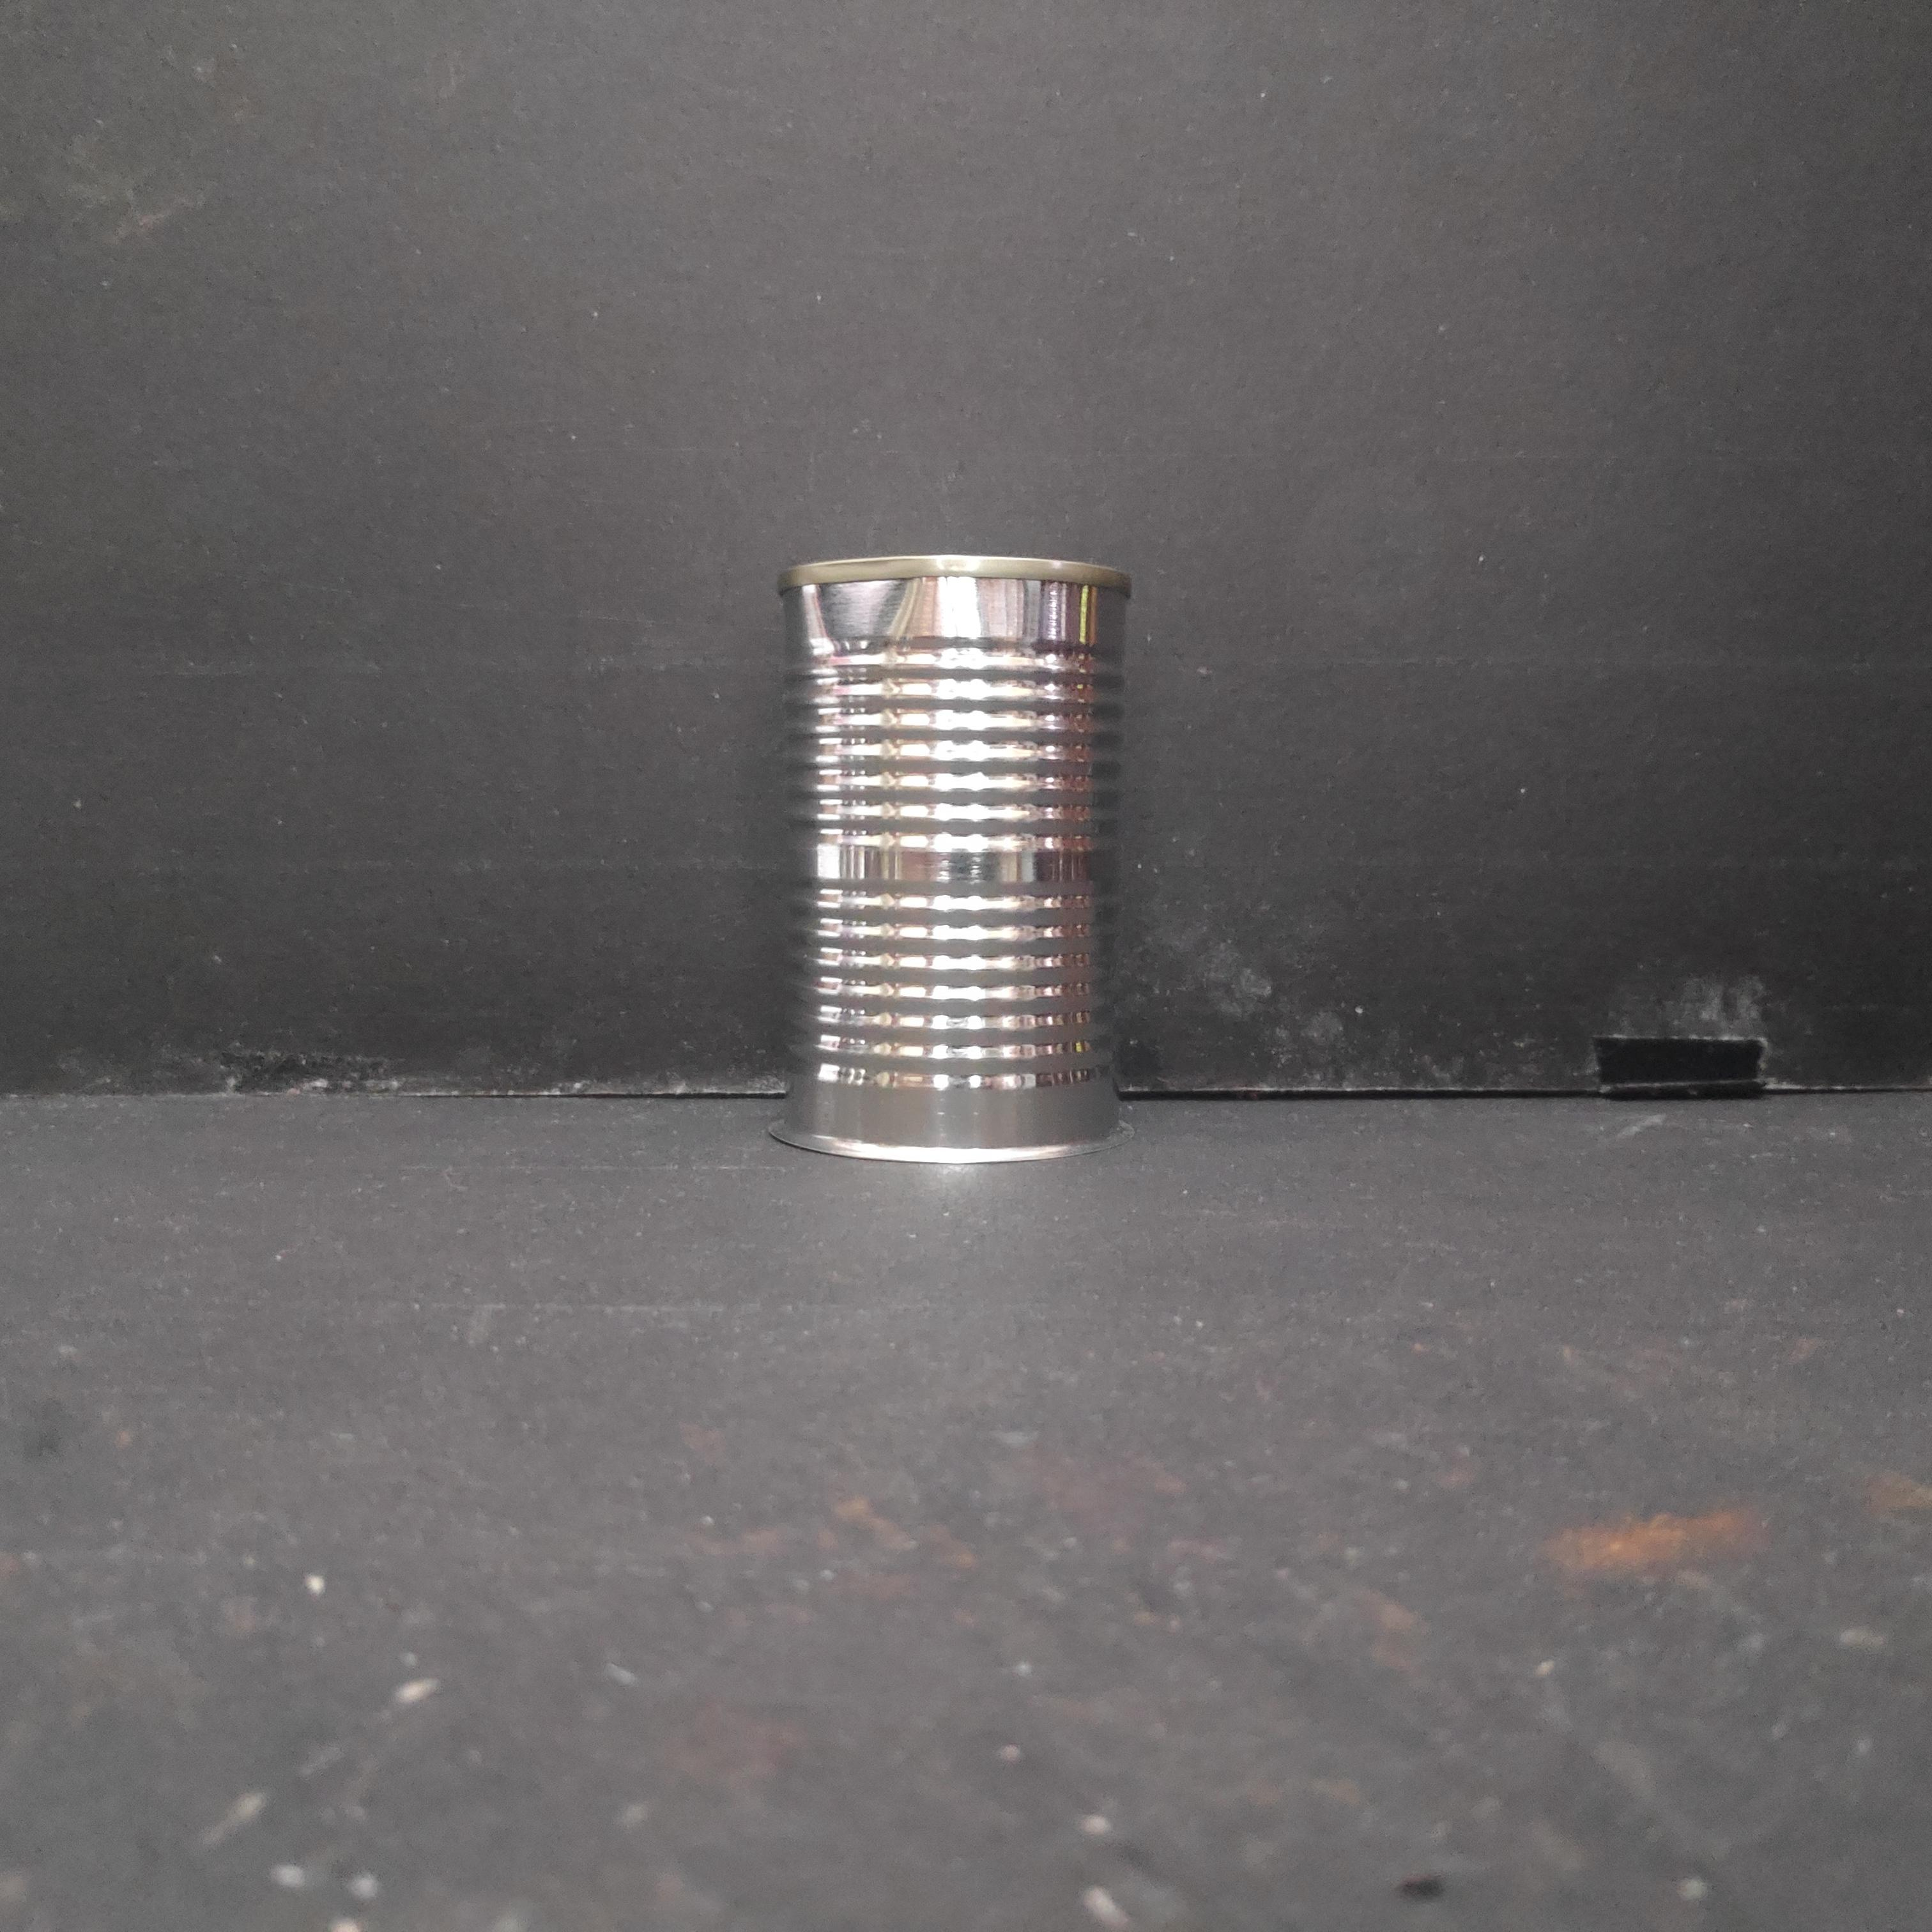Minor Defect: (774, 537, 1132, 1164)
